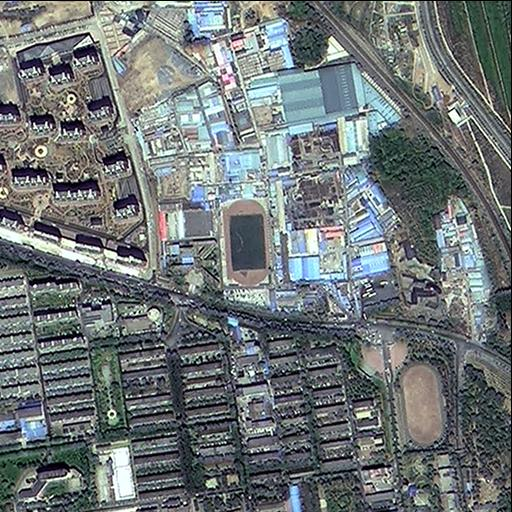school: (156, 196, 273, 286)
